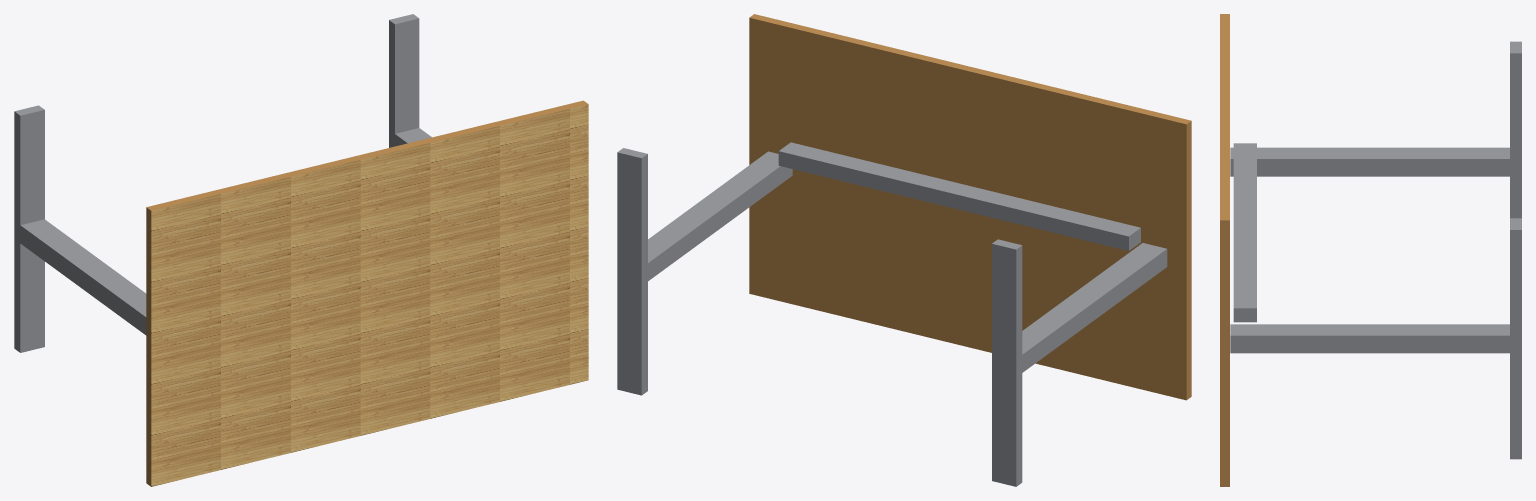
Rendered from table_vis.obj.
The picture shows the model from 3 angles, left to right: view 1: azimuth 30°, elevation 25°; view 2: azimuth 150°, elevation 25°; view 3: azimuth 270°, elevation 25°; orthographic projection. The views are drawn at different scales.
Size of the model in its own units: 1.25 by 0.7562 by 0.775.
3 materials, 1 textured.
